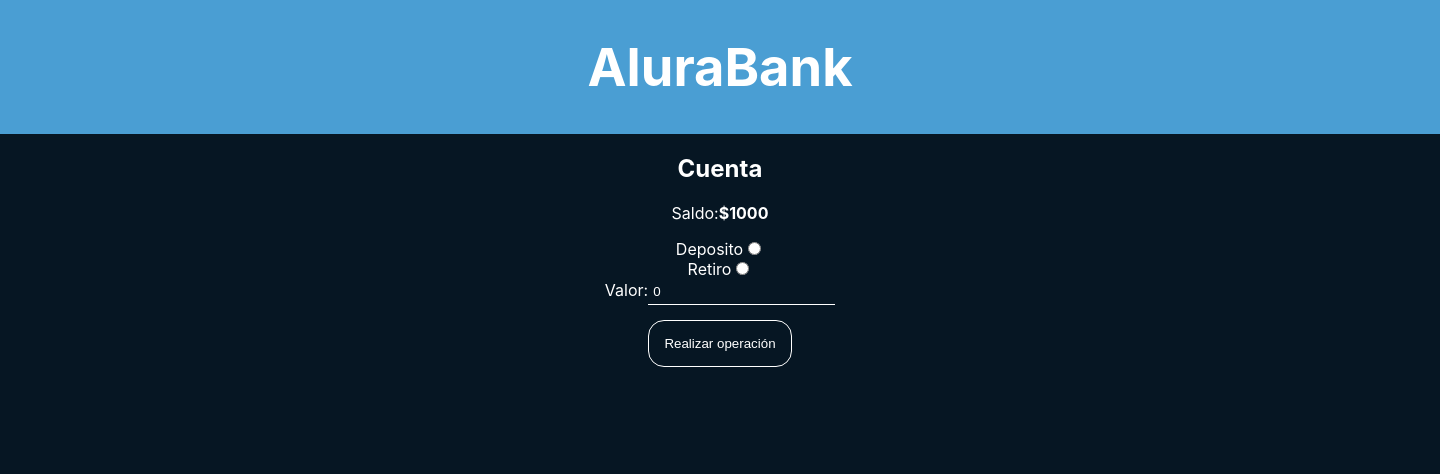
it: Componente principal › Cuando el saldo realiza una operacion › De tipo retiro debe realizar la operacion
expect the text "$1000" is shown: met, box x1=719 y1=203 x2=768 y2=223
Click the radio button labelled "Retiro" at (743, 268), box x1=736 y1=262 x2=749 y2=275
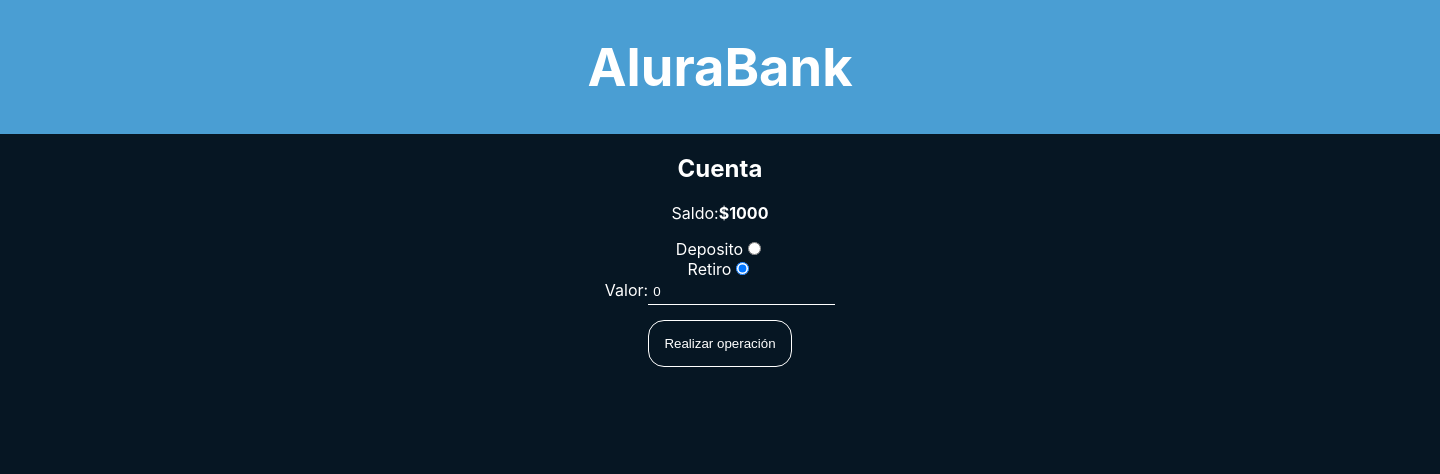
Replace the text in the field with test id "valor" with "100" at (742, 292), box x1=648 y1=279 x2=835 y2=305
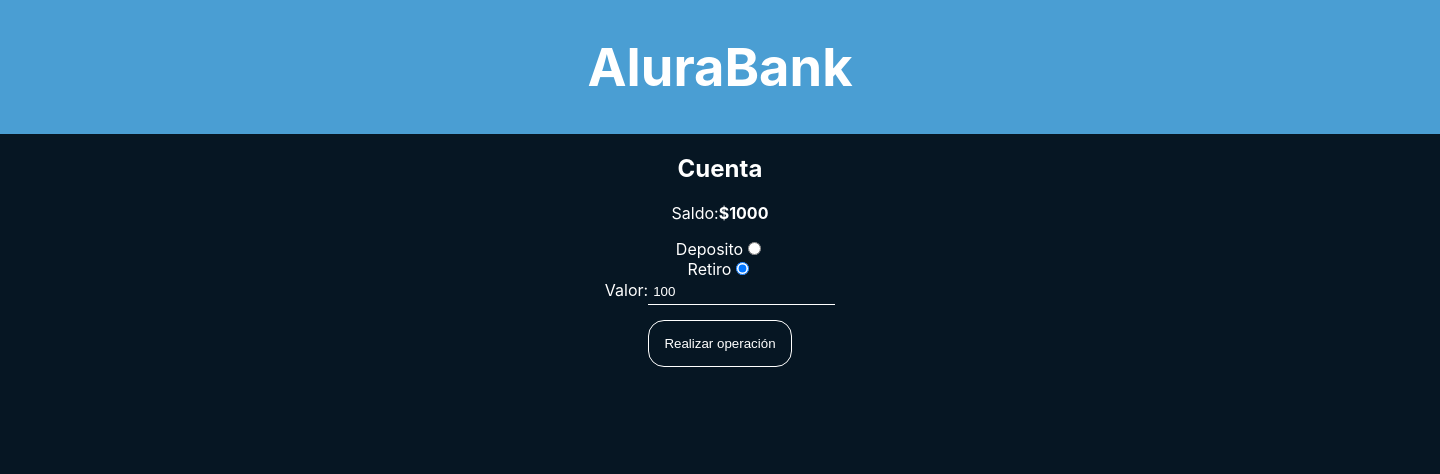
Click the button "Realizar operación" at (720, 344), box x1=648 y1=320 x2=792 y2=367
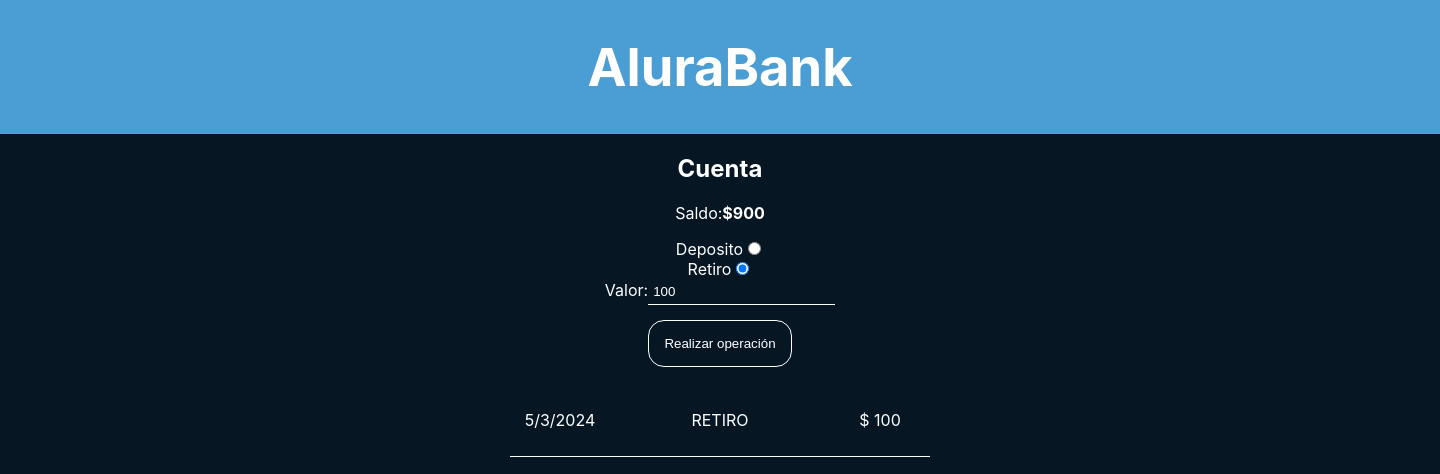
expect the text "$1000" reads "$900": met, box x1=722 y1=203 x2=765 y2=223
